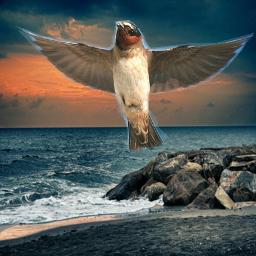Swallow: (16, 20, 254, 153)
